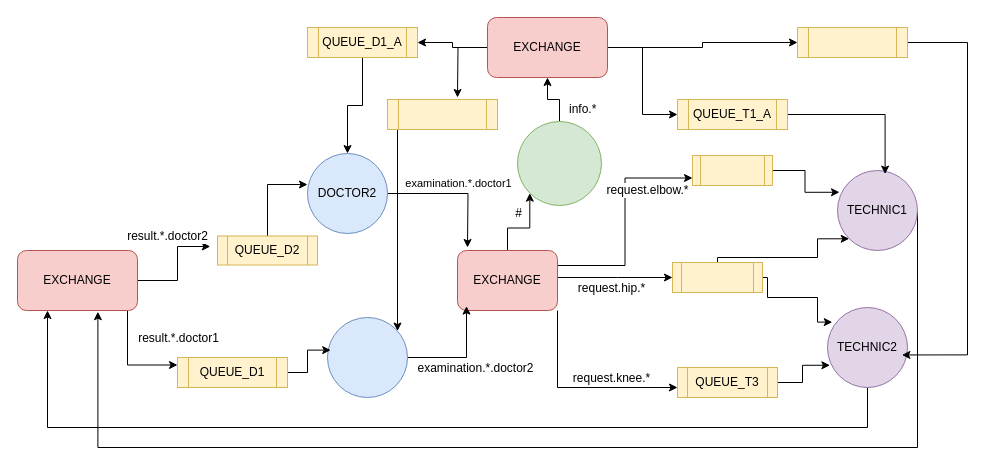
Image size: 993x473. Some labels were removed from this diagram. The centre of each missing label's shape, as x and y in pixels:
"ADMIN" goes at point (559, 163).
"DOCTOR1" goes at point (367, 357).
"QUEUE_D2_A" goes at point (442, 114).
"QUEUE_T1" goes at point (732, 170).
"QUEUE_T2" goes at point (717, 277).
"QUEUE_T2_A" goes at point (852, 42).
